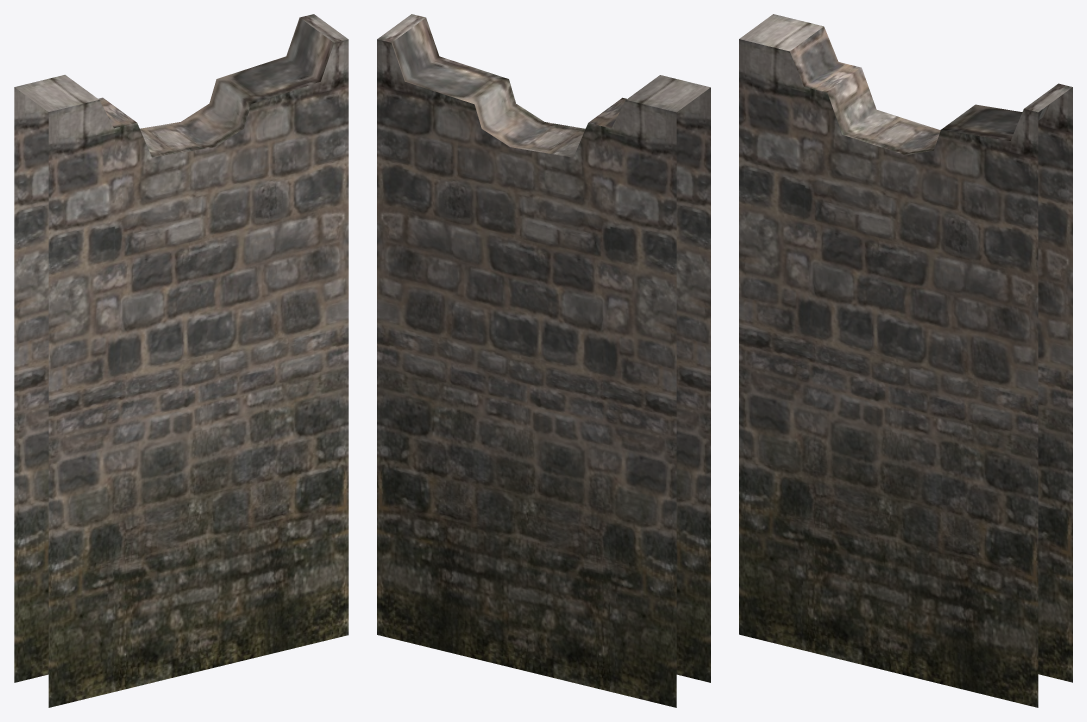
The model's file is TallWallStone_Broken10.fbx.
The picture shows the model from 3 angles, left to right: view 1: azimuth 30°, elevation 25°; view 2: azimuth 150°, elevation 25°; view 3: azimuth 330°, elevation 25°; orthographic projection.
Parts seen in each view (by area): view 1: lod_high; view 2: lod_high; view 3: lod_high.
Boxes of the visible parts, x1=… form: lod_high: x1=14, y1=14, x2=348, y2=707; lod_high: x1=377, y1=14, x2=710, y2=707; lod_high: x1=739, y1=14, x2=1072, y2=707.
Size of the model in its own units: 1000 by 1900 by 200.
1 material, 1 textured.
